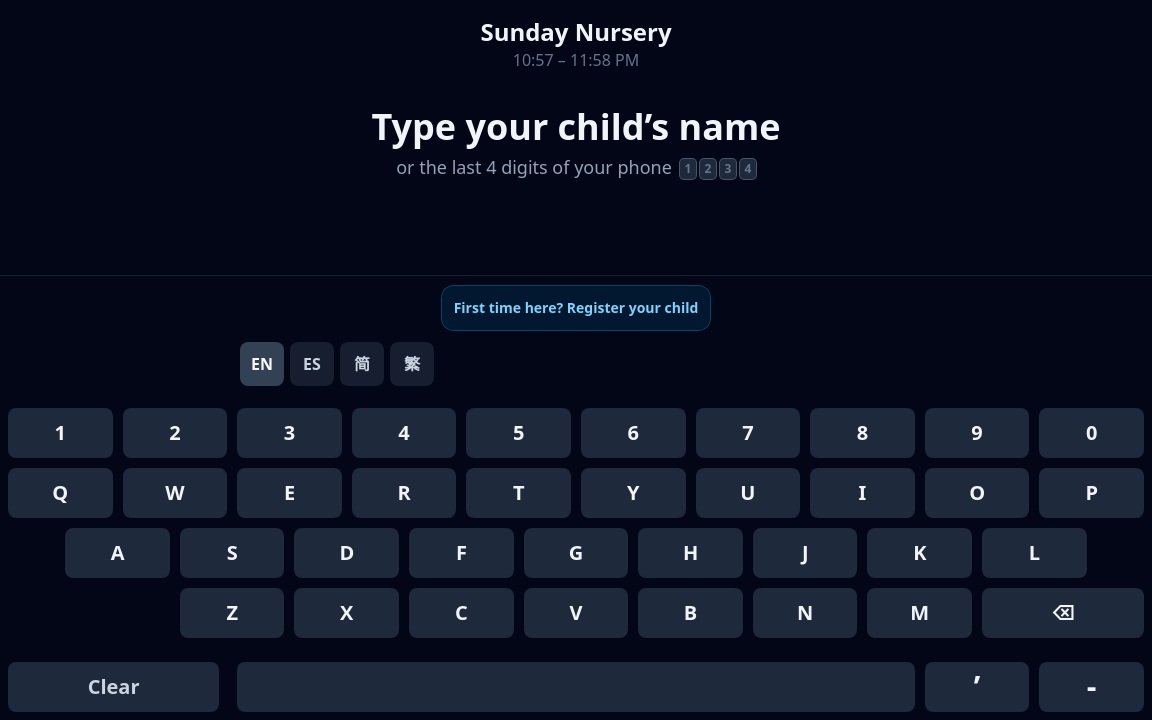
the staff gate › opens the staff screen when Clear is held, and changes nothing
The image size is (1152, 720).
Press the mouse on the button "Clear" at (114,687), box [8, 662, 219, 712]
Wait 2200 ms
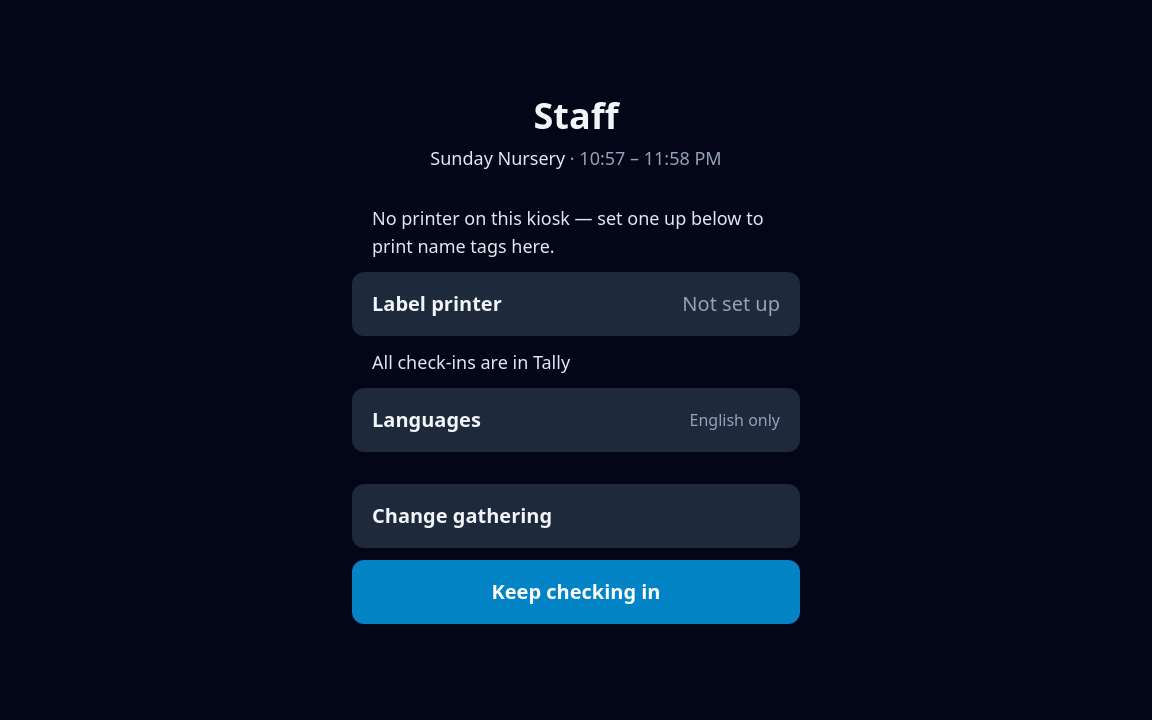
Result: the text "Staff" is shown at [534, 91, 619, 140]
Result: the text "Label printer" is shown at [372, 290, 502, 318]
Result: the button "Change gathering" is shown at [352, 484, 800, 548]
